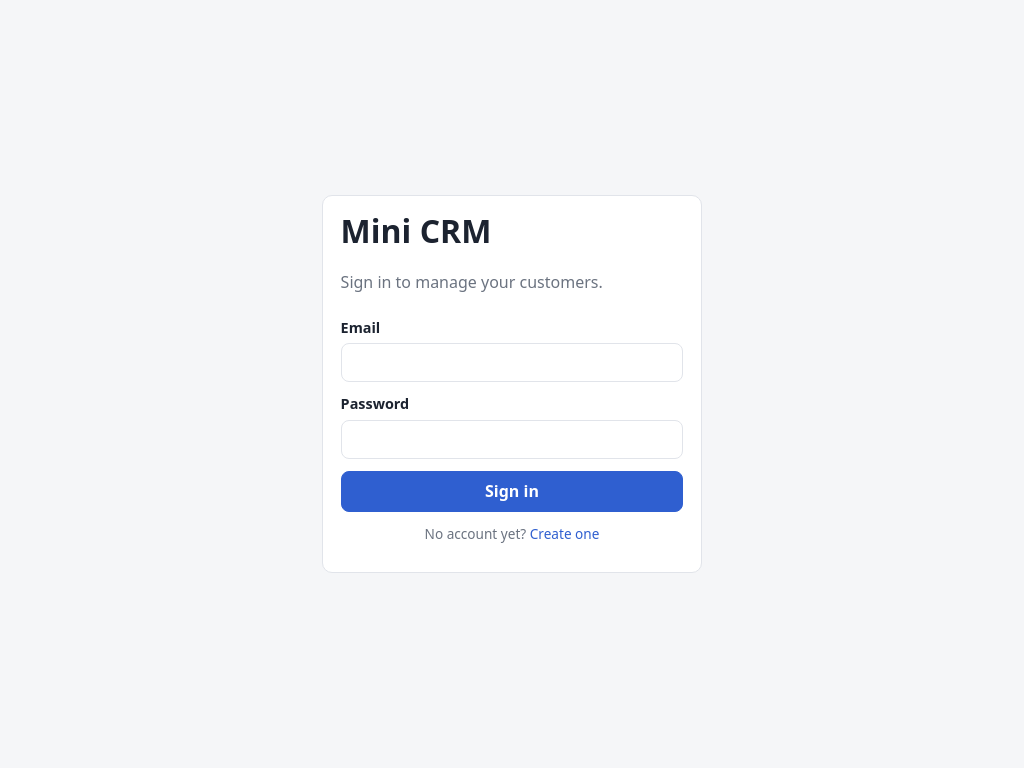
Test: App › logs in, lists customers with their stage, and filters by clicking a stage
Type "a@b.com" into the field labelled "Email".
click(512, 363); type("a@b.com")  # box [341,344,683,382]
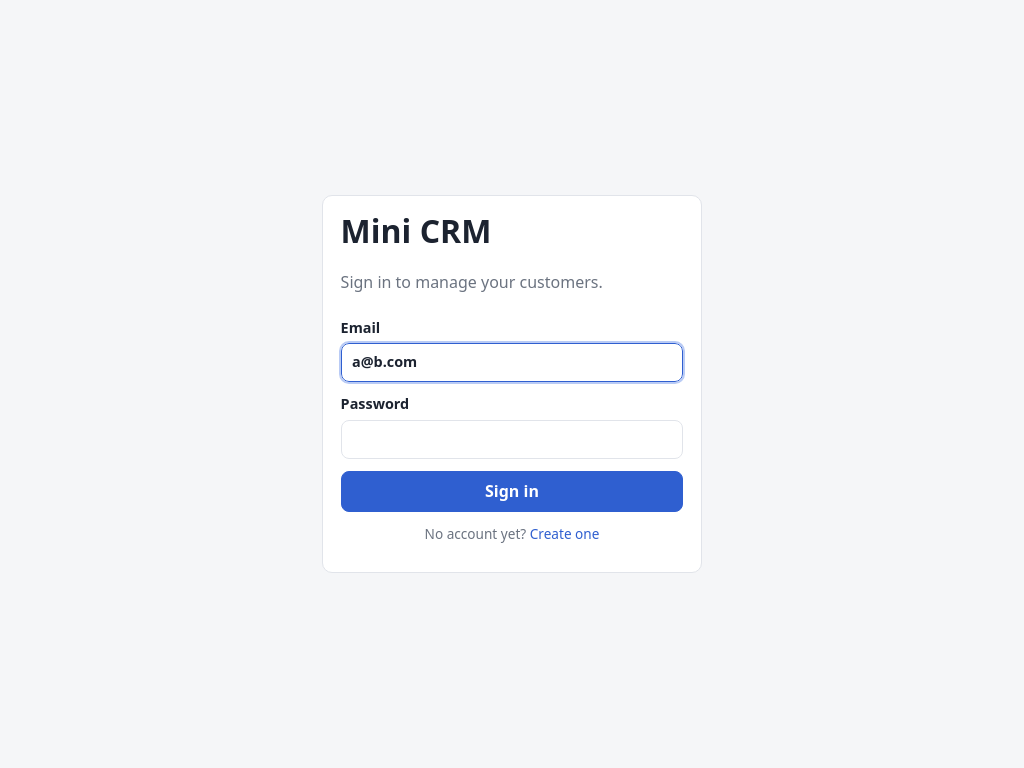
Type "password123" into the password field labelled "Password".
click(512, 439); type("password123")  # box [341,420,683,459]
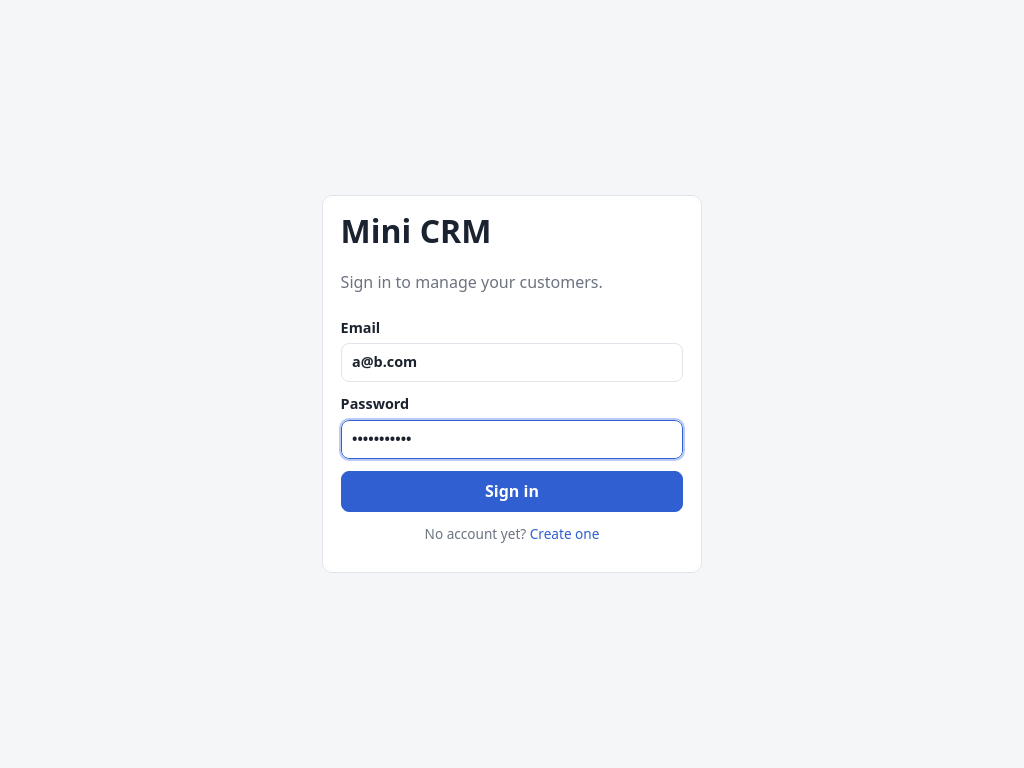
Click the button "Sign in".
click(512, 492)  # box [341,471,683,512]
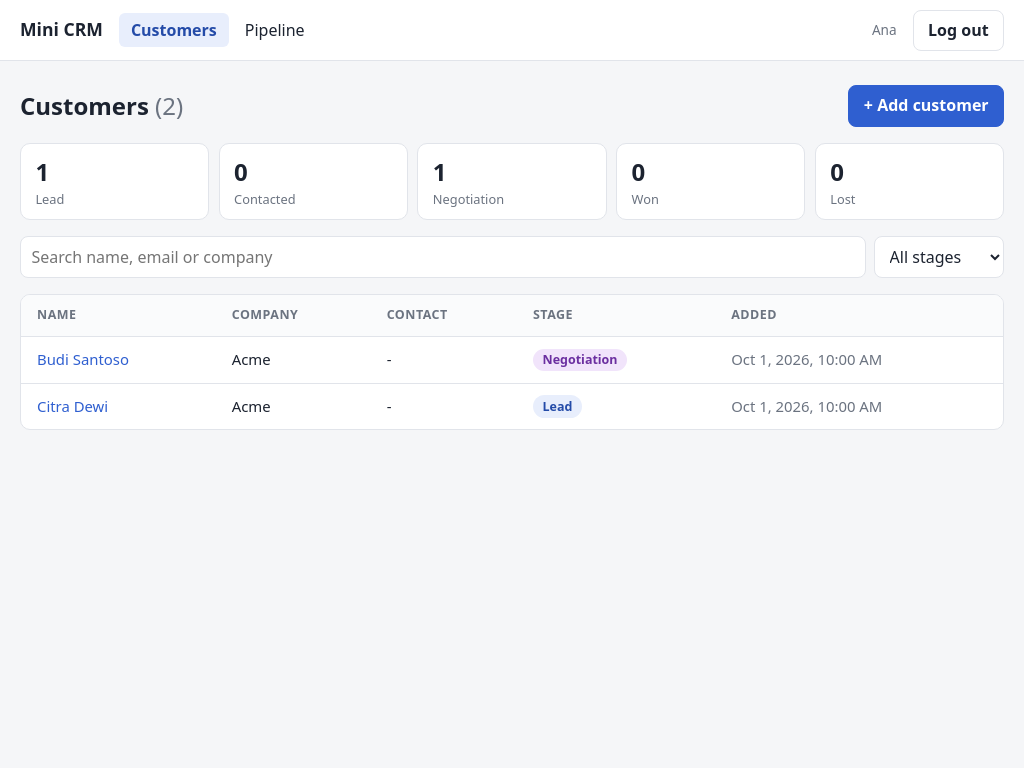
Expected: the text "Ana" is shown, [872,20,897,40]
Now the link "Budi Santoso" is shown, box [37,349,129,369]
Now the link "Citra Dewi" is shown, box [37,396,108,416]
# the "lead" tile in the stats row
Click the button titled "Show only lead".
click(115, 181)  # box [20,143,209,220]
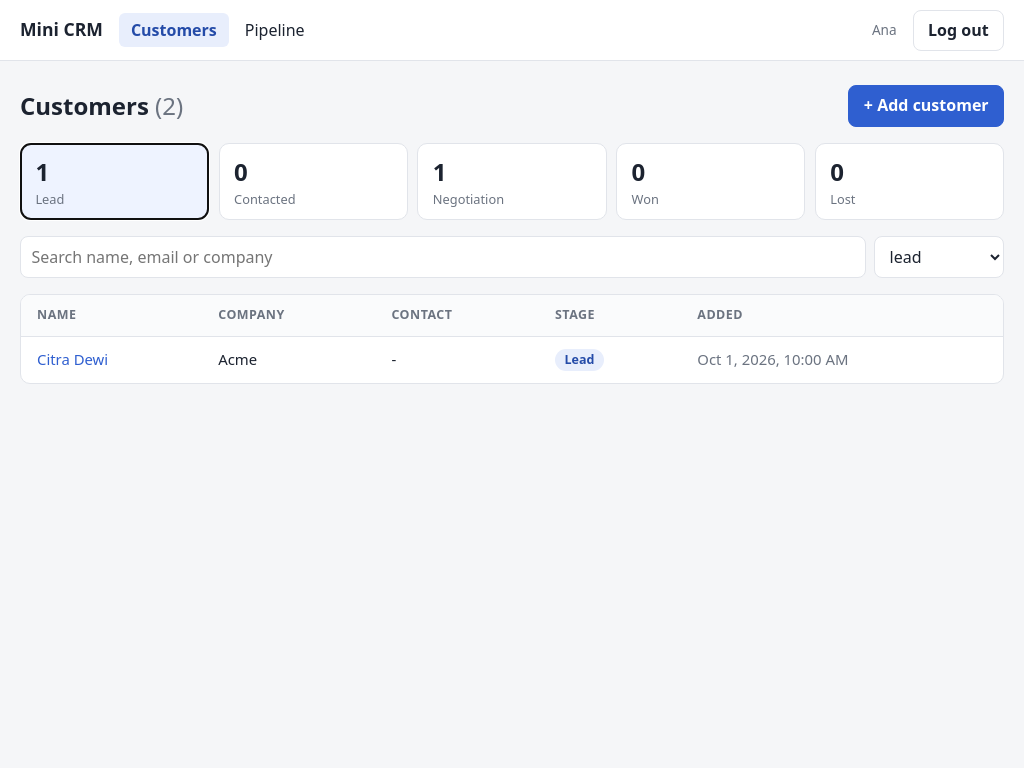
Now the link "Citra Dewi" is shown, box [37,349,108,369]
Now the link "Budi Santoso" is gone
